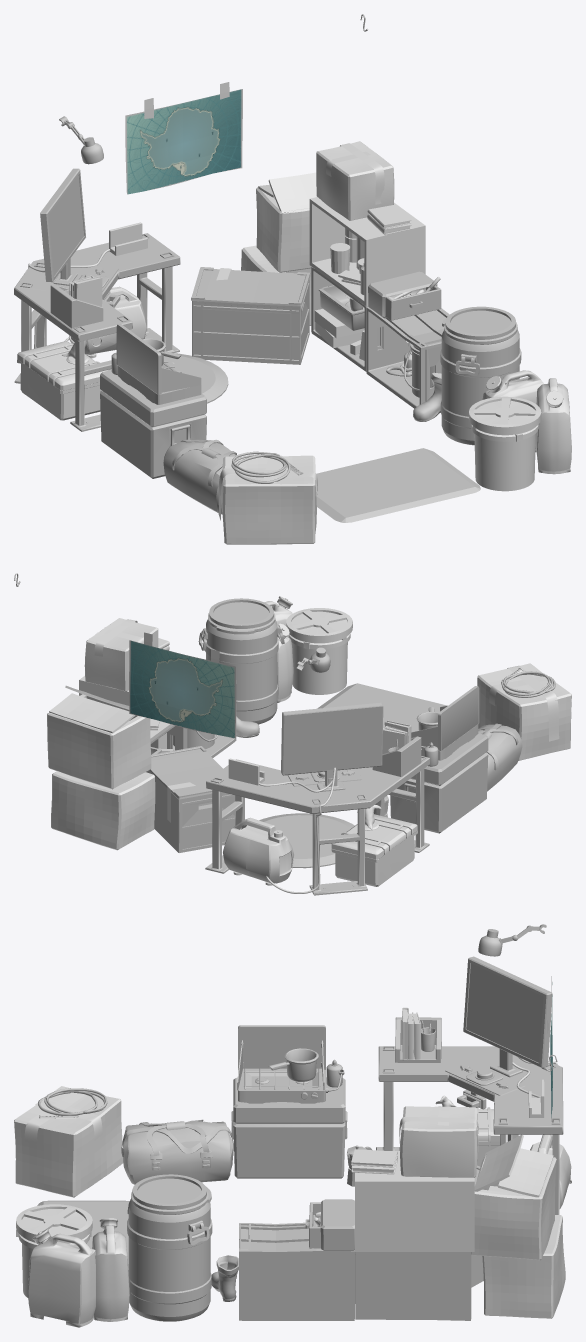
Rendered from p.Cook_general_02.fbx.
3 renders of one model, top to bottom at view 1: azimuth 30°, elevation 25°; view 2: azimuth 150°, elevation 25°; view 3: azimuth 270°, elevation 25°, orthographic. The views are drawn at different scales.
Visible parts, largest first — view 1: foodCrate_v1_01.002, Plane.015, Cube.036, Cylinder.029, cardboardBox_v1.005, Cube.035, Cube.009, wasteBucket_01.001, deskTop_v1, foodCrate_v1_01.001, pelicanCase00.001, deskLegs_v1 (+20 smaller); view 2: Plane.015, Cylinder.029, deskMonitor_v1, cardboardBox_v1.001, cardboardBox_v1.002, foodCrate_v1_01.002, Cube.035, deskTop_v1, cardboardBox_v1.005, deskLegs_v1, wasteBucket_01.001, pelicanCase00.001 (+22 smaller); view 3: Cylinder.029, foodCrate_v1_01.001, Cube.009, Cube.035, foodCrate_v1_01.003, cardboardBox_v1.005, deskMonitor_v1, deskTop_v1, duffleBag, Cube.060, cardboardBox_v1.002, gasCan_v1.002 (+19 smaller).
Boxes of the visible parts, x1,y1,x2,y2 form: foodCrate_v1_01.002: (191,267,310,364); Plane.015: (125,89,242,194); Cube.036: (315,448,480,522); Cylinder.029: (440,306,521,445); cardboardBox_v1.005: (221,455,316,544); Cube.035: (100,370,206,478); Cube.009: (309,197,425,306); wasteBucket_01.001: (469,396,541,491); deskTop_v1: (14,233,180,341); foodCrate_v1_01.001: (366,307,449,408); pelicanCase00.001: (17,341,107,420); deskLegs_v1: (14,235,179,431); Plane.015: (129,640,236,738); Cylinder.029: (198,598,284,724); deskMonitor_v1: (281,702,383,791); cardboardBox_v1.001: (51,771,155,850); cardboardBox_v1.002: (47,694,151,789); foodCrate_v1_01.002: (146,746,235,852); Cube.035: (390,733,488,833); deskTop_v1: (206,756,429,813); cardboardBox_v1.005: (477,663,571,760); deskLegs_v1: (205,757,429,895); wasteBucket_01.001: (286,608,352,694); pelicanCase00.001: (331,814,417,886); Cylinder.029: (127,1174,212,1321); foodCrate_v1_01.001: (239,1222,354,1320); Cube.009: (355,1151,474,1251); Cube.035: (231,1077,347,1178); foodCrate_v1_01.003: (355,1252,471,1320); cardboardBox_v1.005: (14,1086,123,1197); deskMonitor_v1: (463,956,552,1077); deskTop_v1: (378,1046,563,1134); duffleBag: (121,1119,233,1184); Cube.060: (237,1025,344,1103); cardboardBox_v1.002: (471,1154,556,1260); gasCan_v1.002: (28,1229,95,1327).
Bounding box in the file's own units: 3.58 × 2.49 × 4.39.
